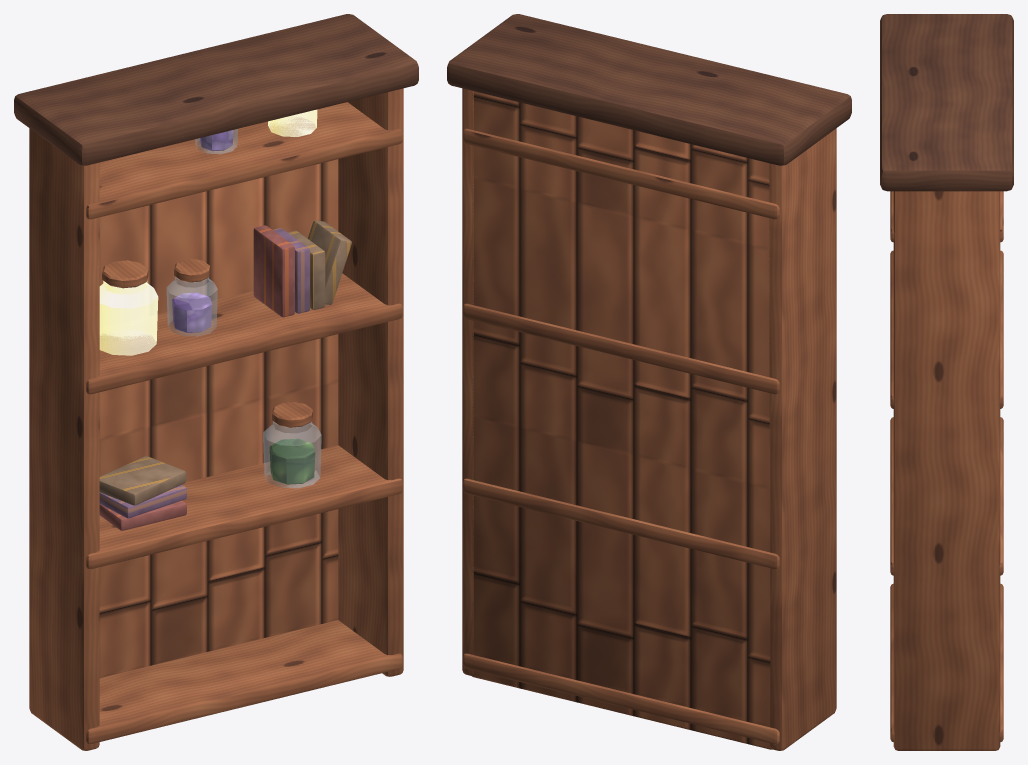
File: shelf.gltf
The picture shows the model from 3 angles, left to right: view 1: azimuth 30°, elevation 25°; view 2: azimuth 150°, elevation 25°; view 3: azimuth 270°, elevation 25°; orthographic projection. The views are drawn at different scales.
Visible parts, largest first — view 1: shelf_mesh; view 2: shelf_mesh; view 3: shelf_mesh.
Boxes of the visible parts, x1,y1,x2,y2 form: shelf_mesh: [14, 14, 418, 750]; shelf_mesh: [447, 14, 851, 750]; shelf_mesh: [880, 14, 1013, 750].
Size of what is drawn, in the model's own units: 1.12 by 1.94 by 0.4.
Materials: 10 (8 with a texture image).
